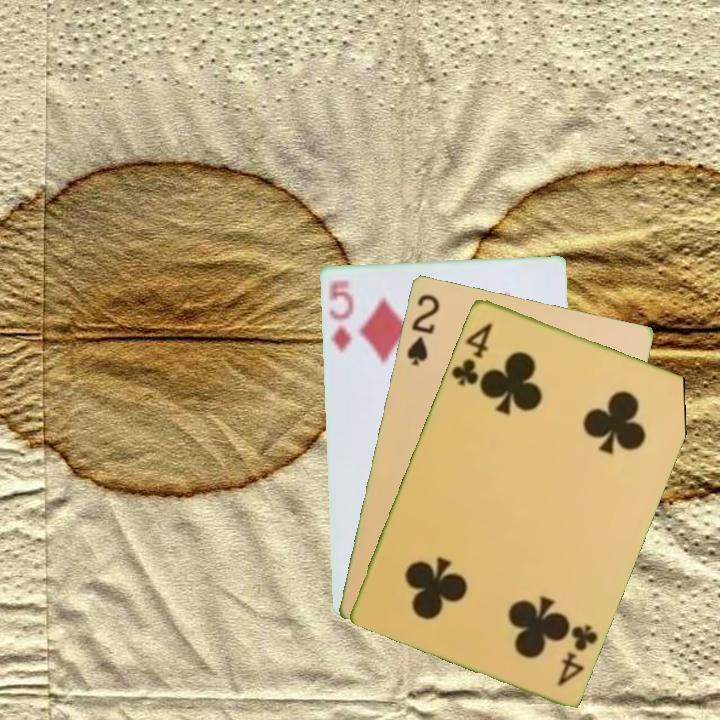2s: (403, 290, 443, 368)
4c: (447, 318, 495, 388), (553, 620, 601, 689)
5d: (325, 275, 356, 355)
